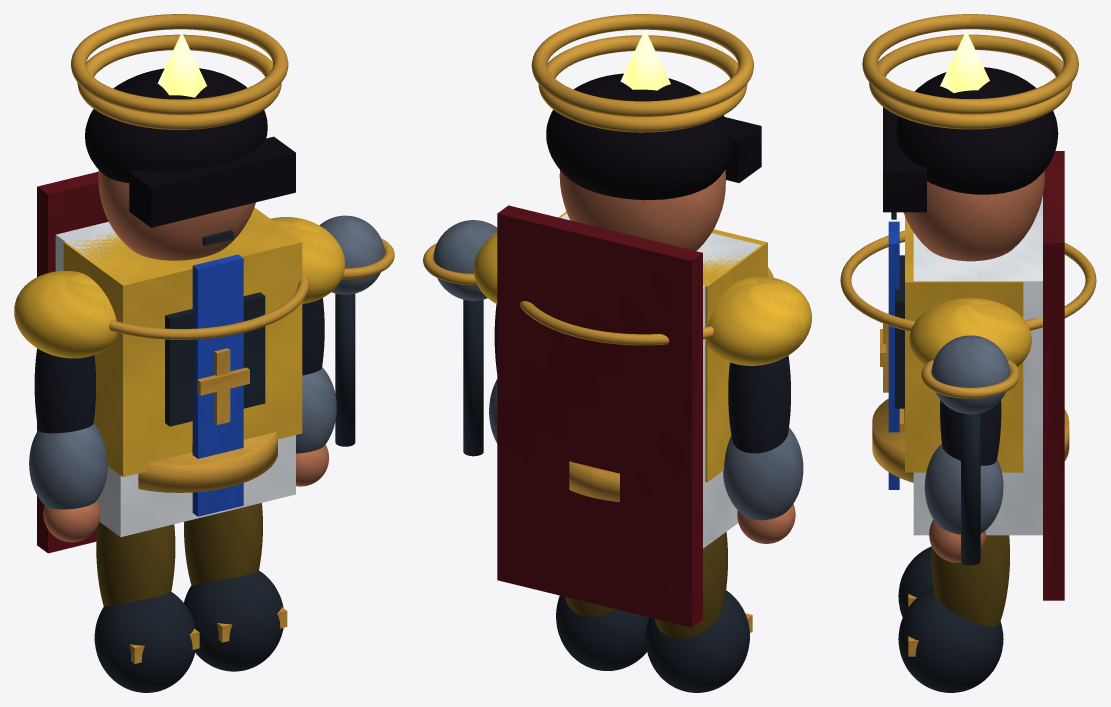
The model's file is Mastery.glb.
The picture shows the model from 3 angles, left to right: view 1: azimuth 30°, elevation 25°; view 2: azimuth 150°, elevation 25°; view 3: azimuth 270°, elevation 25°; orthographic projection. The views are drawn at different scales.
Parts seen in each view (by area): view 1: ChestPlate, Hair, BlueStole, HairFringe, WhiteRobe, Boot, DivineHalo, Boot.001, Shoulder, CrownRing, Head, Gauntlet (+18 smaller); view 2: Cape, Hair, DivineHalo, Shoulder, Head, CrownRing, Boot, ChestPlate, Arm, Gauntlet, Boot.001, WhiteRobe (+10 smaller); view 3: WhiteRobe, Hair, Cape, ChestPlate, Head, DivineHalo, Boot.001, CrownRing, Shoulder.001, Leg.001, MaceHead, Gauntlet.001 (+11 smaller).
Part boxes in pixels (bbox=[...]): ChestPlate: bbox=[63, 207, 302, 476]; Hair: bbox=[85, 68, 267, 182]; BlueStole: bbox=[192, 254, 243, 516]; HairFringe: bbox=[129, 136, 295, 227]; WhiteRobe: bbox=[55, 222, 295, 537]; Boot: bbox=[94, 592, 195, 692]; DivineHalo: bbox=[71, 14, 288, 114]; Boot.001: bbox=[184, 570, 283, 671]; Shoulder: bbox=[14, 271, 117, 358]; CrownRing: bbox=[77, 34, 281, 129]; Head: bbox=[98, 170, 255, 260]; Gauntlet: bbox=[29, 423, 107, 509]; Cape: bbox=[497, 205, 702, 627]; Hair: bbox=[546, 73, 732, 200]; DivineHalo: bbox=[531, 14, 753, 116]; Shoulder: bbox=[705, 276, 811, 365]; Head: bbox=[559, 169, 725, 250]; CrownRing: bbox=[538, 35, 747, 132]; Boot: bbox=[645, 590, 749, 692]; ChestPlate: bbox=[558, 211, 767, 482]; Arm: bbox=[728, 355, 790, 453]; Gauntlet: bbox=[723, 427, 803, 520]; Boot.001: bbox=[556, 595, 648, 670]; WhiteRobe: bbox=[560, 213, 761, 548]; WhiteRobe: bbox=[913, 196, 1042, 535]; Hair: bbox=[896, 67, 1058, 194]; Cape: bbox=[1043, 151, 1064, 600]; ChestPlate: bbox=[905, 217, 1023, 472]; Head: bbox=[903, 170, 1044, 261]; DivineHalo: bbox=[862, 14, 1078, 114]; Boot.001: bbox=[898, 588, 1003, 692]; CrownRing: bbox=[869, 34, 1072, 129]; Shoulder.001: bbox=[909, 298, 1031, 366]; Leg.001: bbox=[931, 535, 1009, 626]; MaceHead: bbox=[931, 335, 1009, 414]; Gauntlet.001: bbox=[924, 444, 1003, 534].
Bounding box in the file's own units: 1.92 × 3.21 × 1.17.
14 materials, 11 textured.
